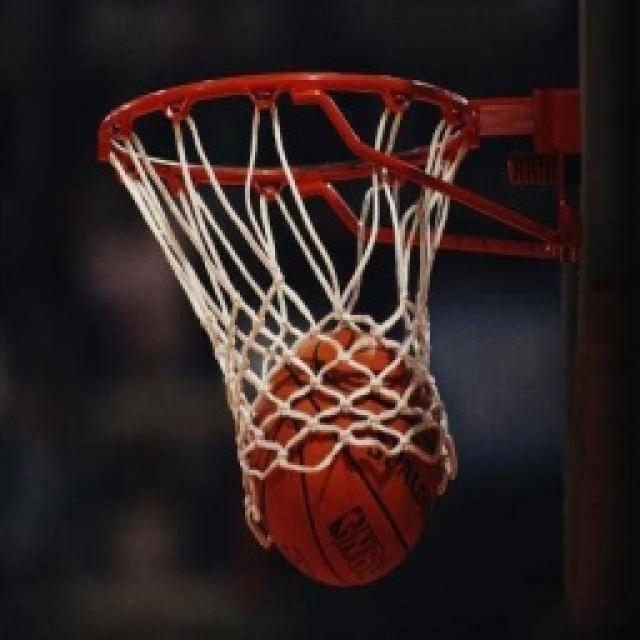rim: (236, 316, 454, 592)
